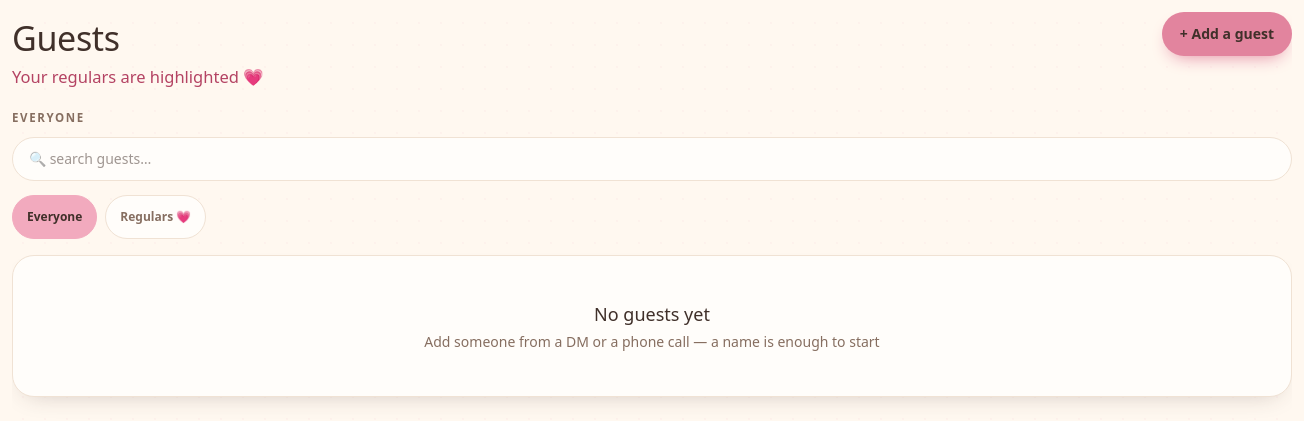
GuestList › explains how the regulars badge is earned when there are none
expect the text "No guests yet" is shown: met, box [594,302,710,326]
Click the button "Regulars 💗". click: (156, 216)
box: [105,194,206,238]
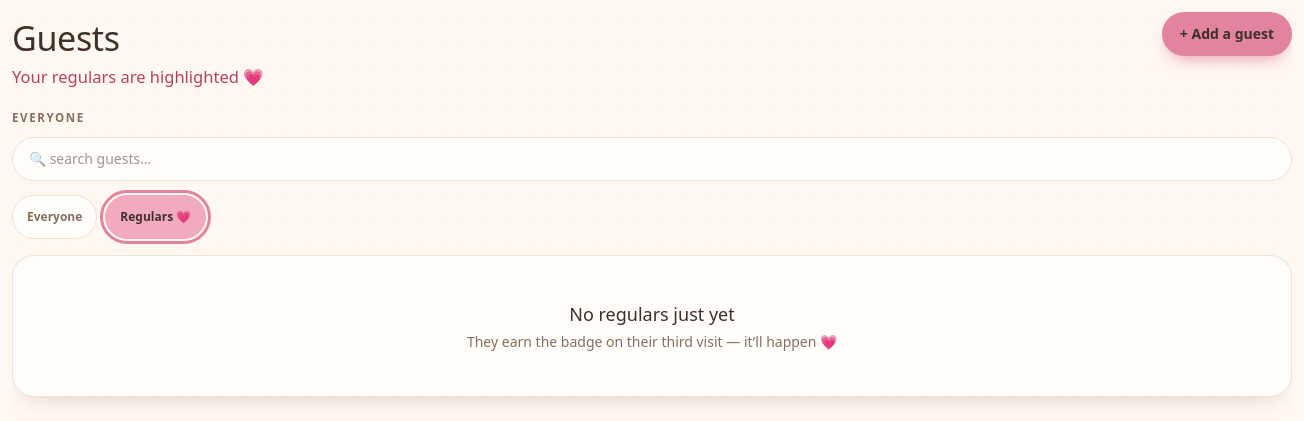
expect the text "They earn the badge on their third visit — it’ll happen 💗" is shown: met, box [467,332,837,350]
